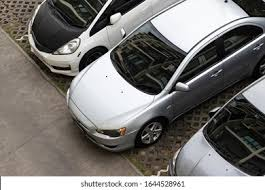car: (62, 1, 265, 151), (28, 1, 185, 80), (166, 76, 265, 176)
